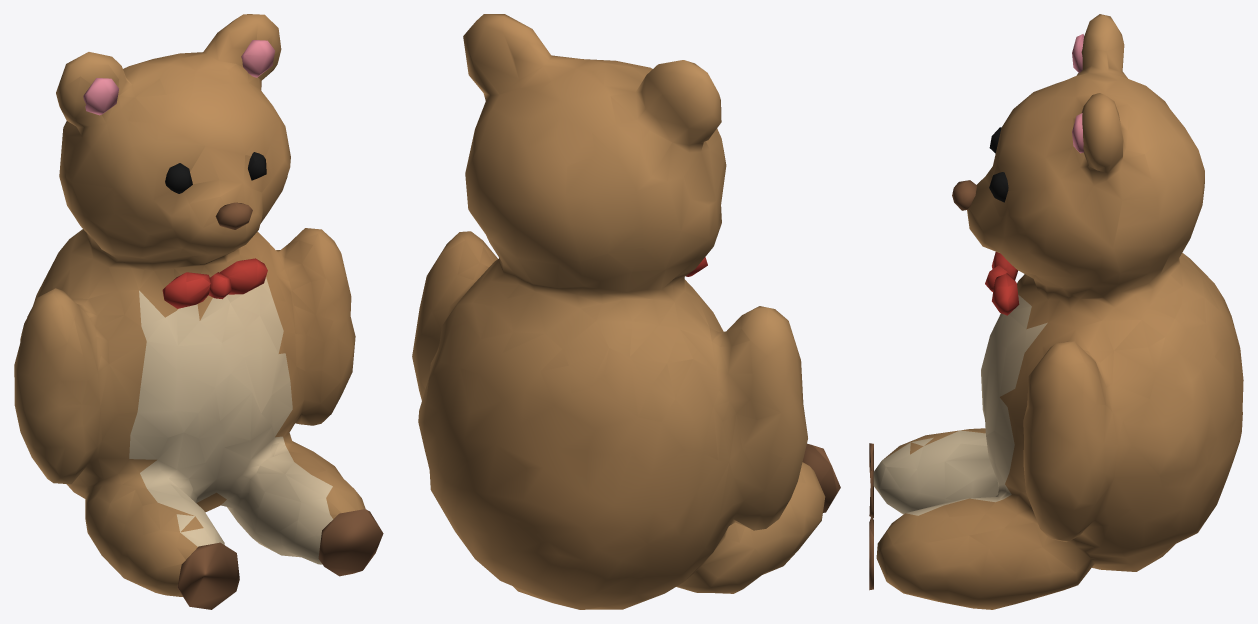
File: den_teddy_lod2.glb
3 views of the same model, side by side, from view 1: azimuth 30°, elevation 25°; view 2: azimuth 150°, elevation 25°; view 3: azimuth 270°, elevation 25° (orthographic). The views are drawn at different scales.
Parts seen in each view (by area): view 1: den_teddy.001; view 2: den_teddy.001; view 3: den_teddy.001.
Boxes of the visible parts, left/top/right/bottom form: den_teddy.001: left=14, top=14, right=383, bottom=609; den_teddy.001: left=412, top=14, right=840, bottom=609; den_teddy.001: left=869, top=14, right=1243, bottom=609.
Bounding box in the file's own units: 16.87 × 24.21 × 16.03.
